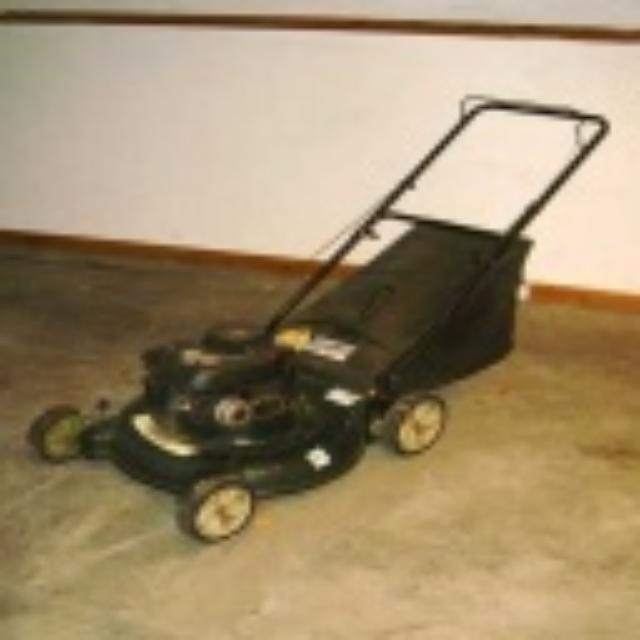Rotary-Mower: (26, 90, 610, 540)
